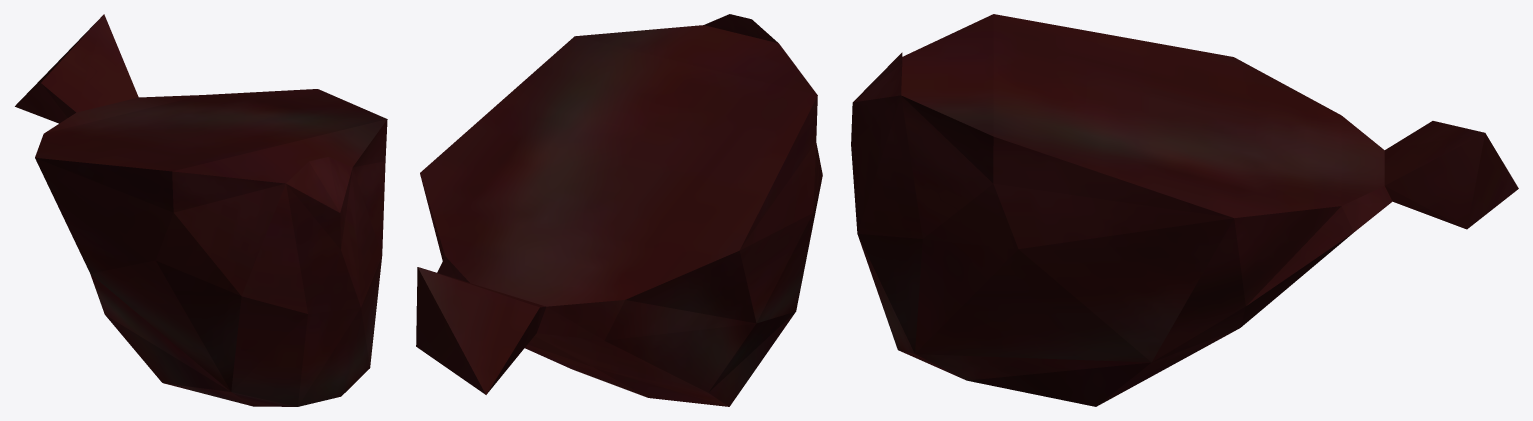
File: CHUSTA_CZ.glb
3 renders of one model, left to right at view 1: azimuth 30°, elevation 25°; view 2: azimuth 150°, elevation 25°; view 3: azimuth 270°, elevation 25°, orthographic. The views are drawn at different scales.
Visible parts, largest first — view 1: CHUSTA_CZ; view 2: CHUSTA_CZ; view 3: CHUSTA_CZ.
Part boxes in pixels (bbox=[...]): CHUSTA_CZ: bbox=[15, 14, 387, 406]; CHUSTA_CZ: bbox=[416, 14, 822, 406]; CHUSTA_CZ: bbox=[851, 14, 1518, 406].
Bounding box in the file's own units: 0.1928 × 0.18 × 0.3386.
1 material, 1 textured.
